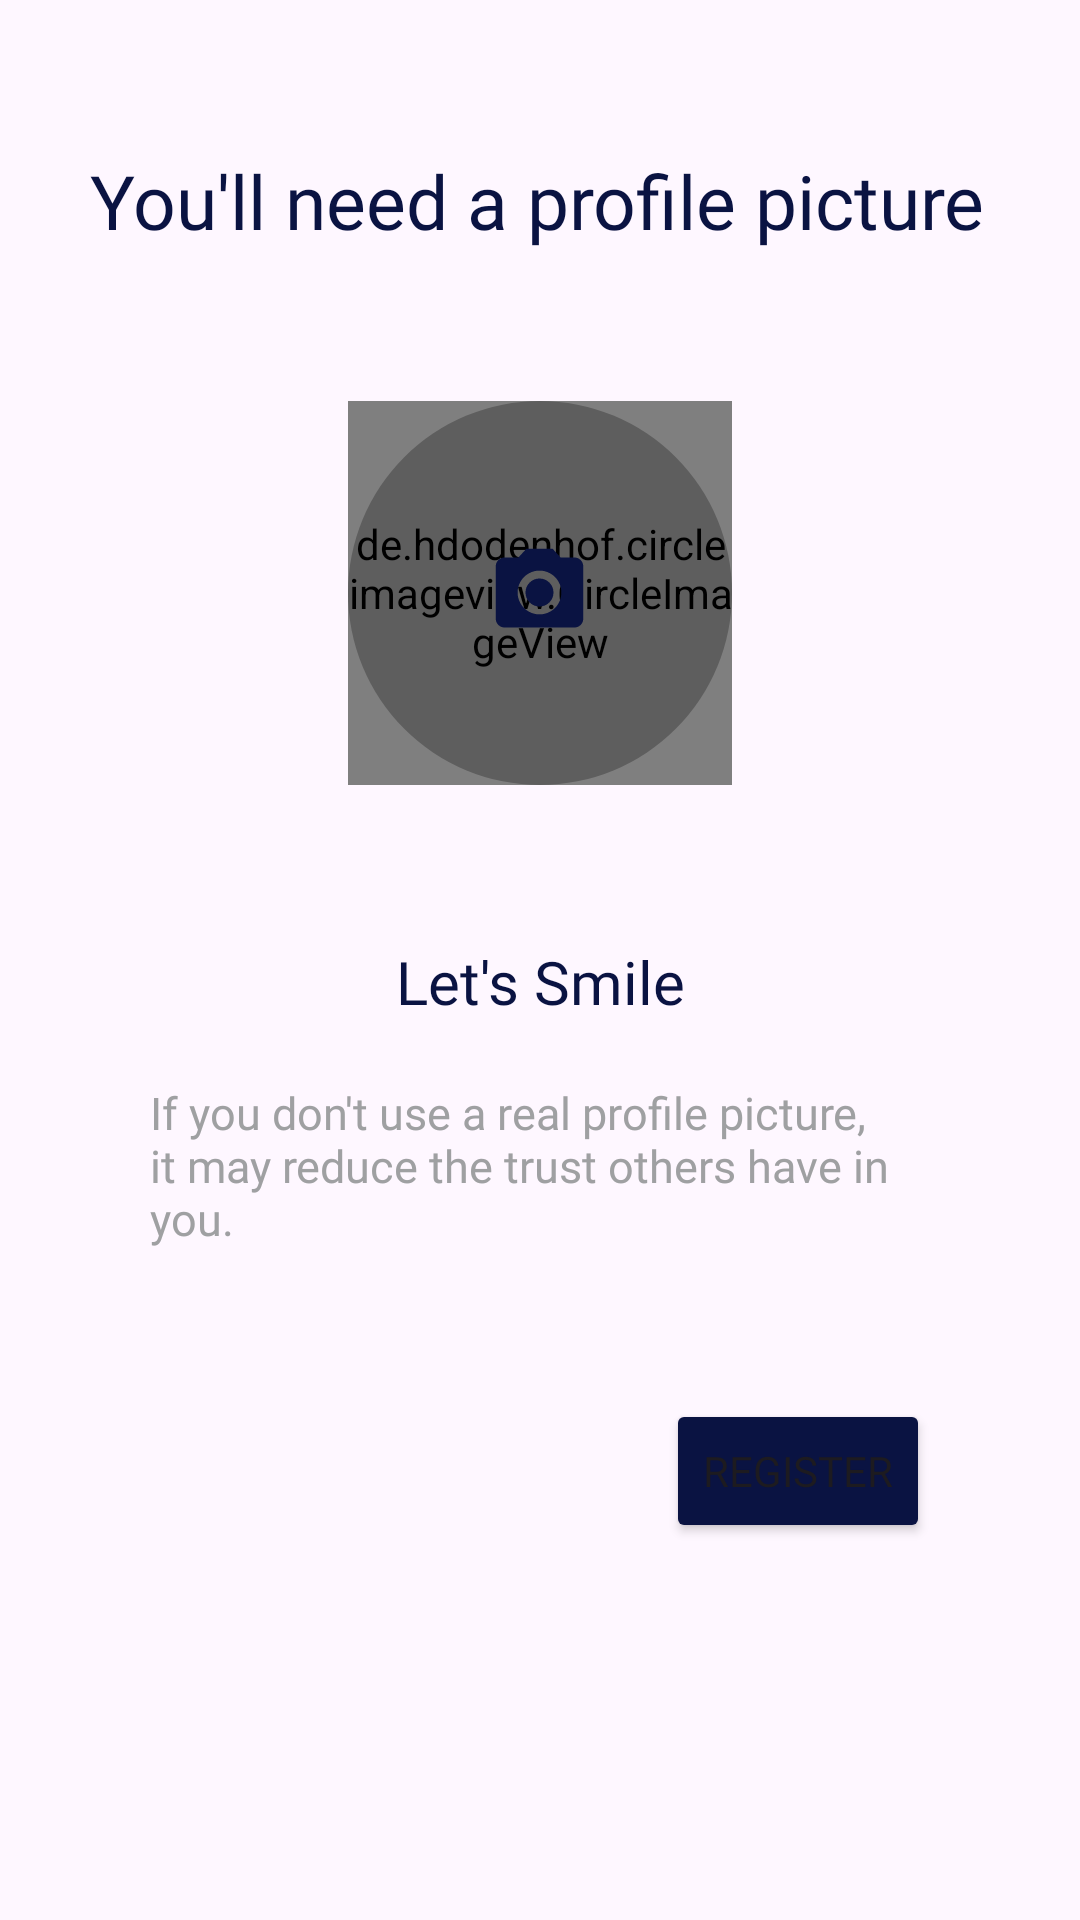

Named icons in this screenshot (1080x1920) and their bounding boxes, (x1, y1, x2, y2):
camera: (487, 540, 592, 645)
